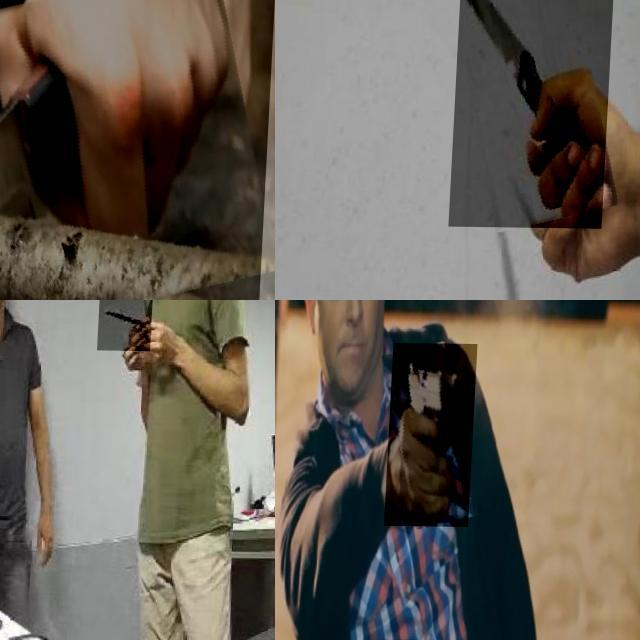-: (0, 0, 275, 300), (452, 0, 616, 227), (100, 300, 155, 350)
gun-knife-thesis - v11 Yolov5 augmented: (389, 342, 482, 526)
